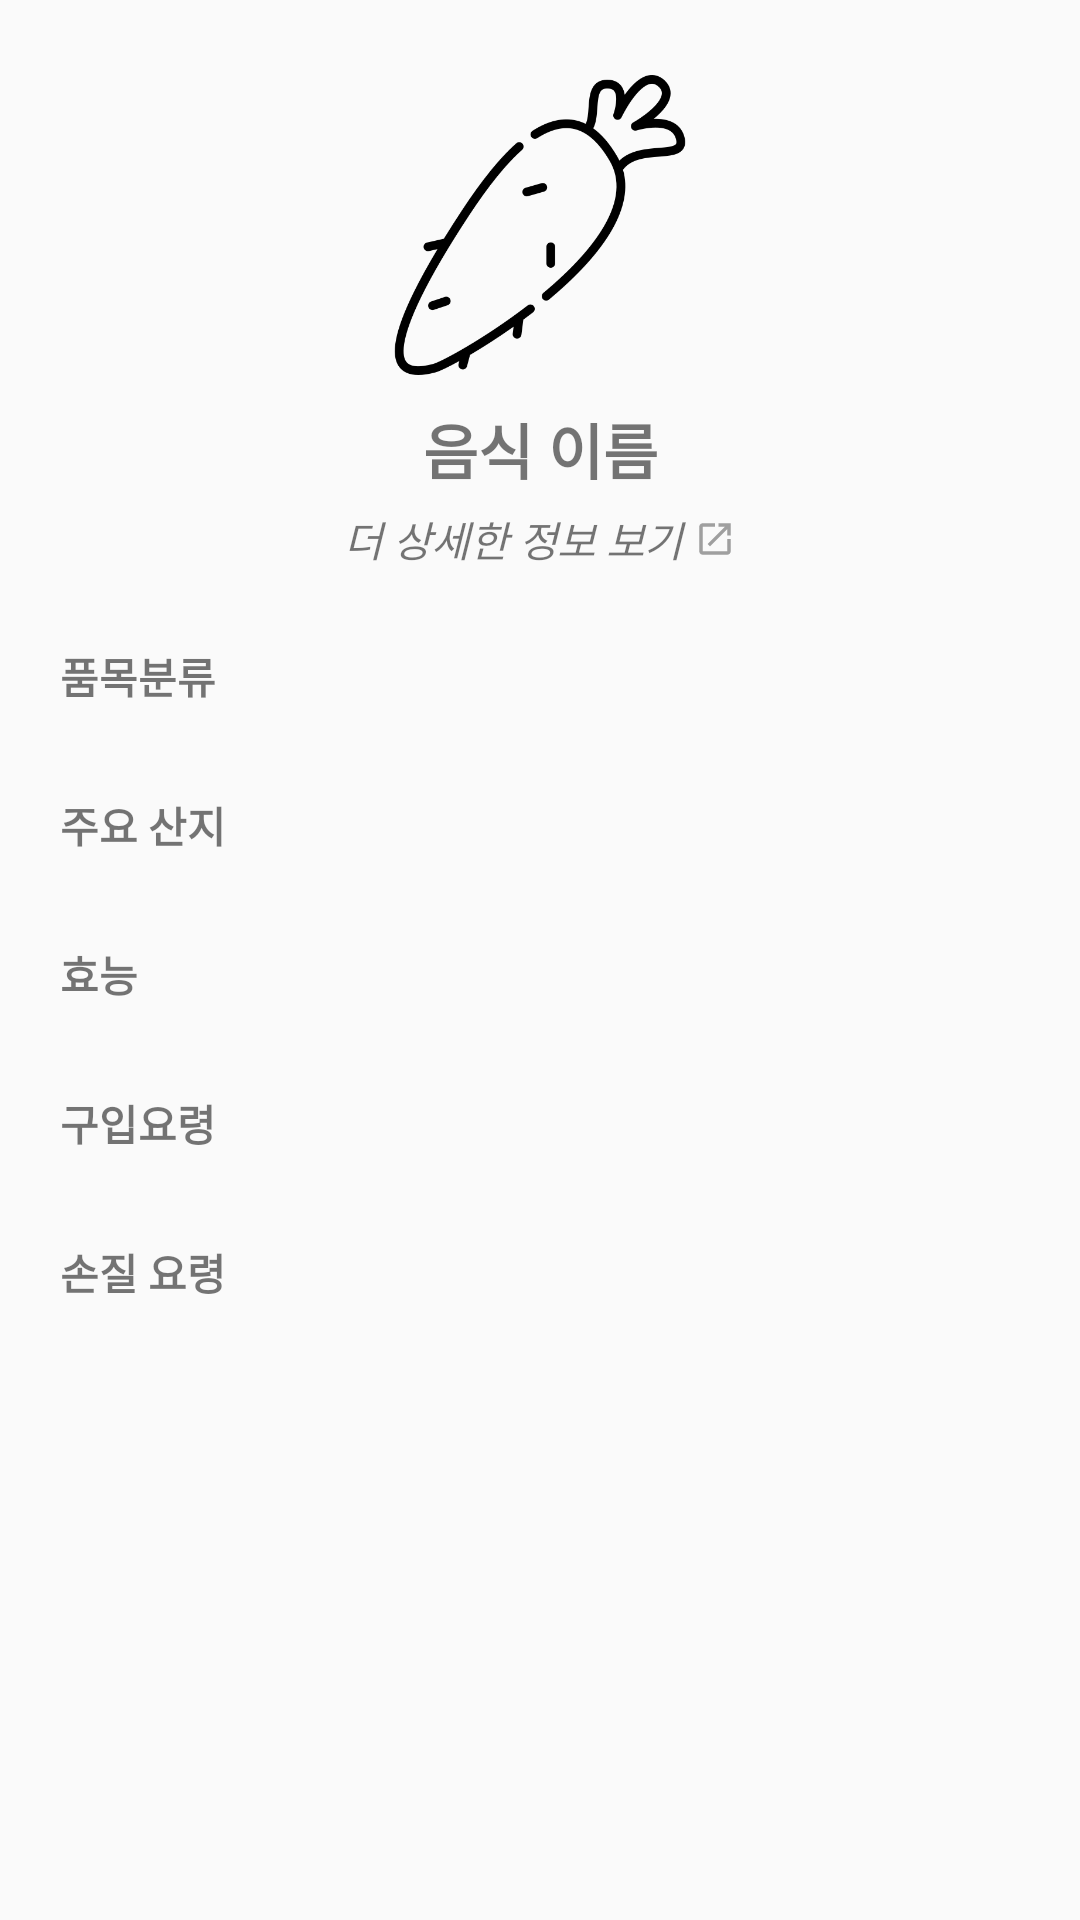

Point at icon controls on the screen. Image size 1080px x 1920px, points as [x,y].
launch: [715,539]
vege radish: [540,225]
